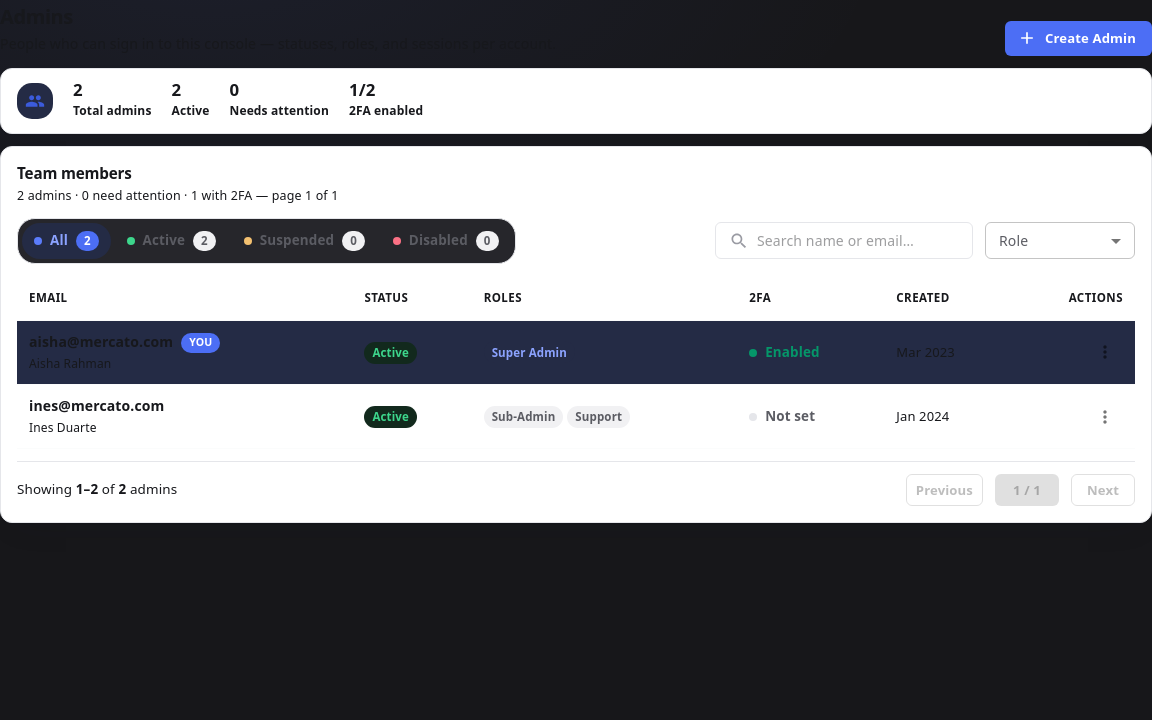
Test: AdminsView (live API wiring) › status 409 LAST_SUPER_ADMIN shows the blocked variant, not a toast
This screenshot has width=1152, height=720.
Expected: the text "ines@mercato.com" is shown, [29,396,164,415]
Step 1. Click the button named "Actions for ines@mercato.com" → [1105, 417], box [1087,399,1123,435]
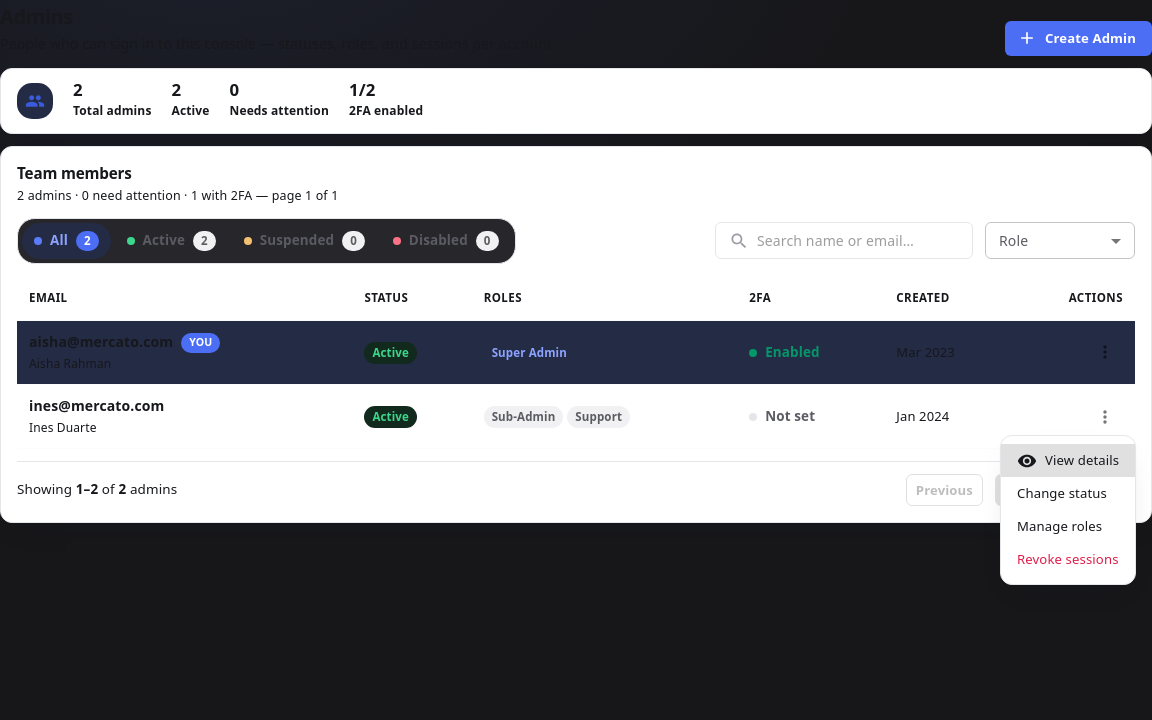
Step 2. Click the menu item "Change status" → [1062, 493], box [1017,484,1107,502]
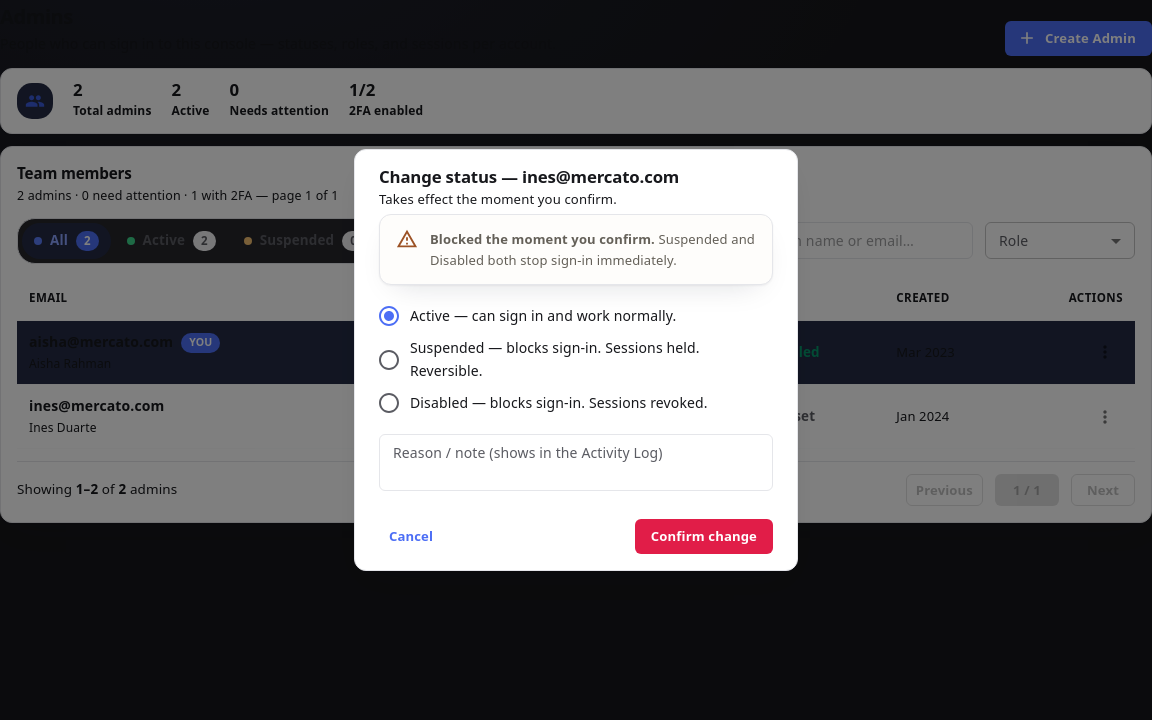
Step 3. Click the text box labelled "Reason / note (shows in the Activity Log)" → [576, 463], box [393,443,759,483]
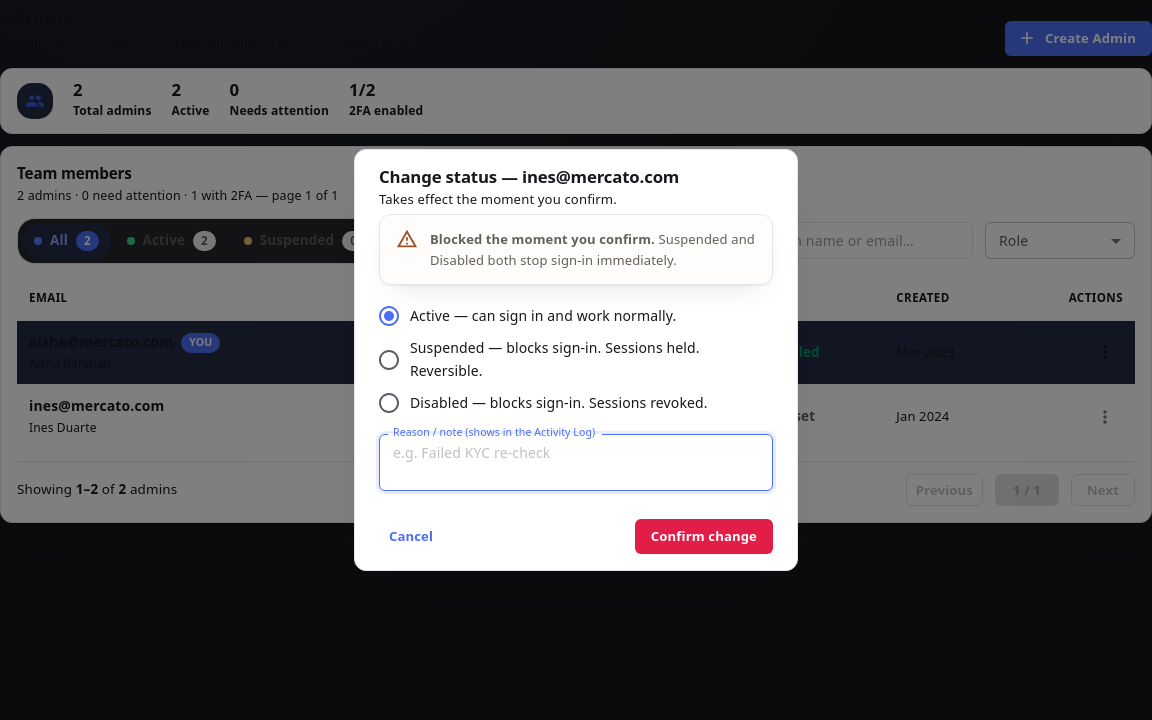
Step 4. Type keys "Failed KYC re-check"
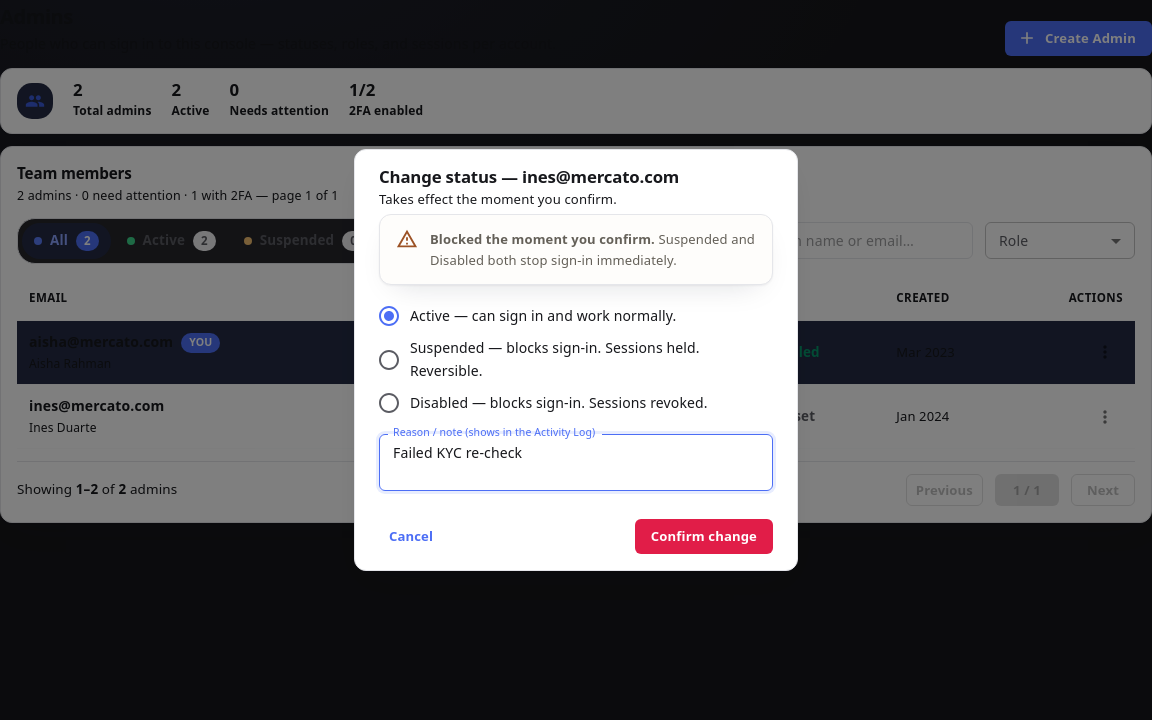
Step 5. Click the button "Confirm change" → [704, 537], box [635,519,773,554]
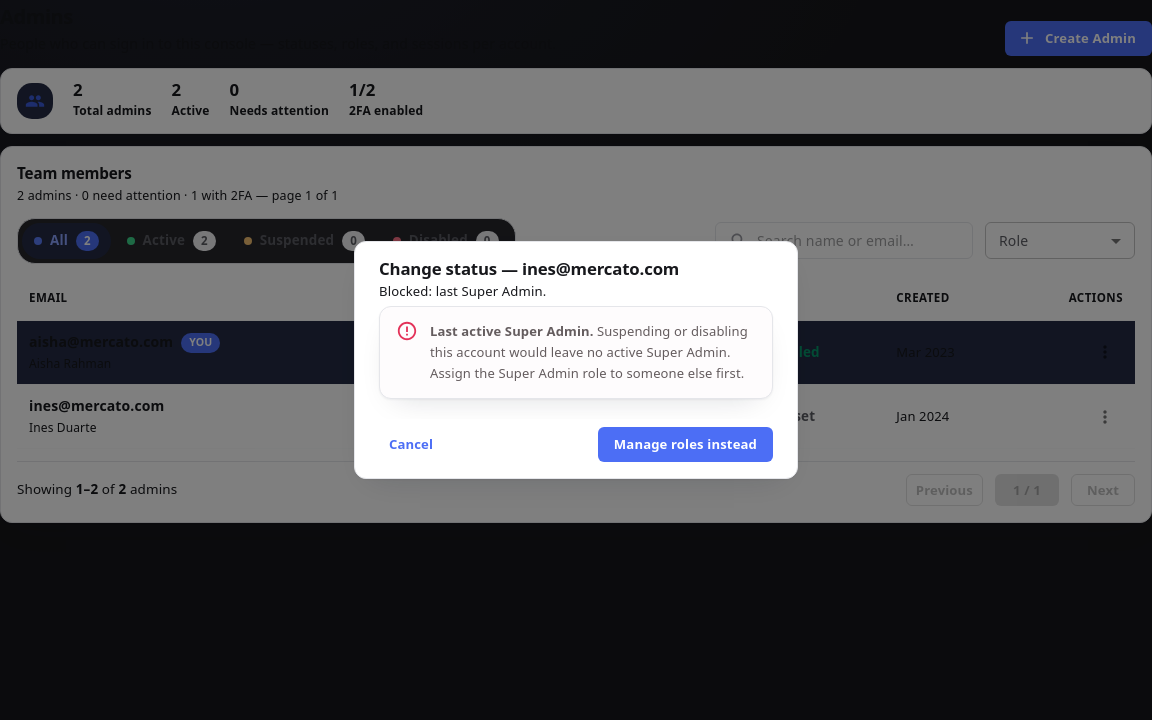
Now the text "Last active Super Admin." is shown, box [430,322,594,340]
